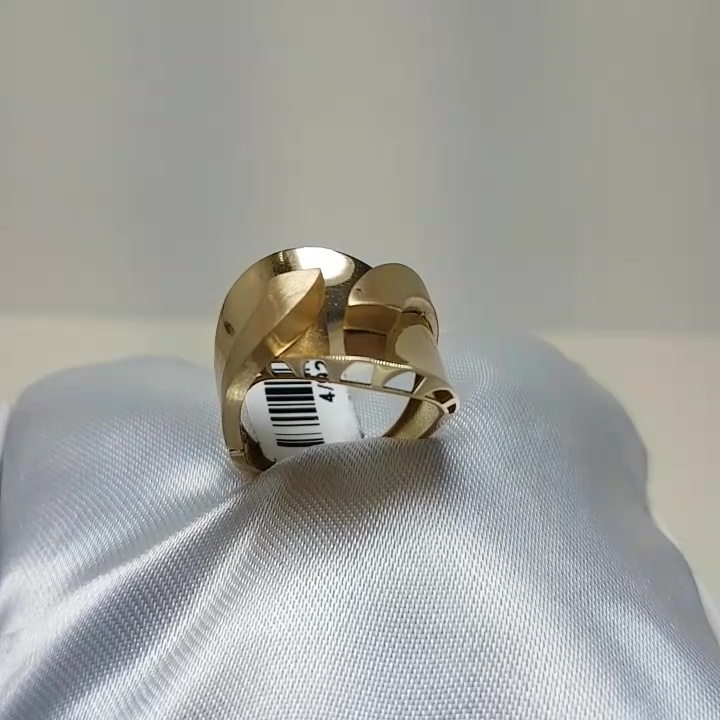Ring 4: (176, 233, 460, 489)
